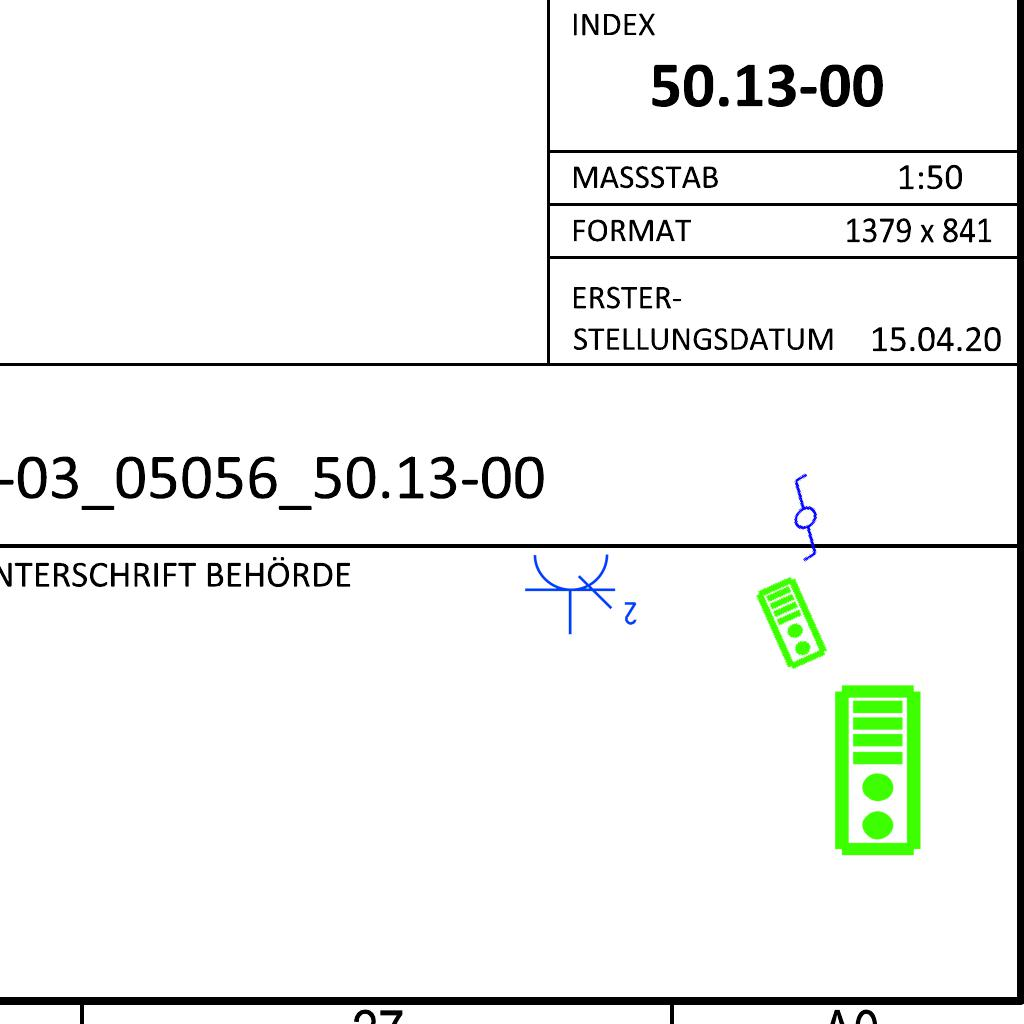Gegensprechanlage_mit_Video: (832, 683, 927, 859), (753, 573, 832, 673)
Schukosteckdose_mehrfach: (523, 548, 644, 636)
Wechselschalter: (749, 466, 855, 574)
